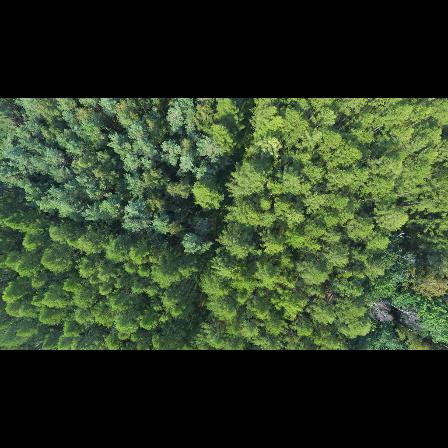Dead: (367, 300, 395, 323), (397, 305, 420, 326)
